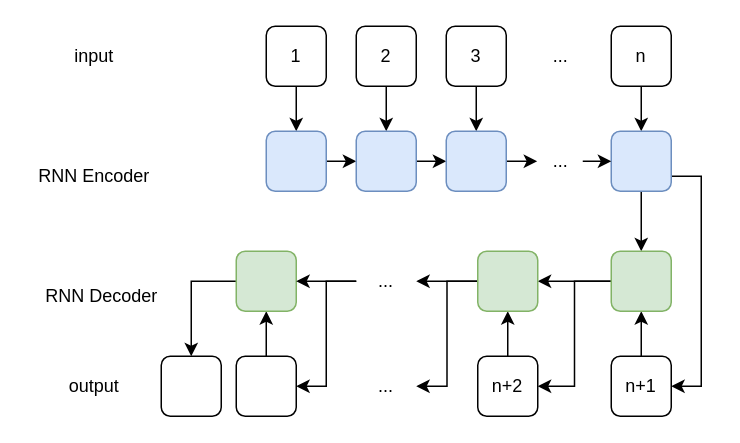
This 740x443 diagram has some shape labels left out. Each missing label, with the centre of its shape:
"n+N" belongs at [190,385].
"n+N-1" belongs at [265,385].
